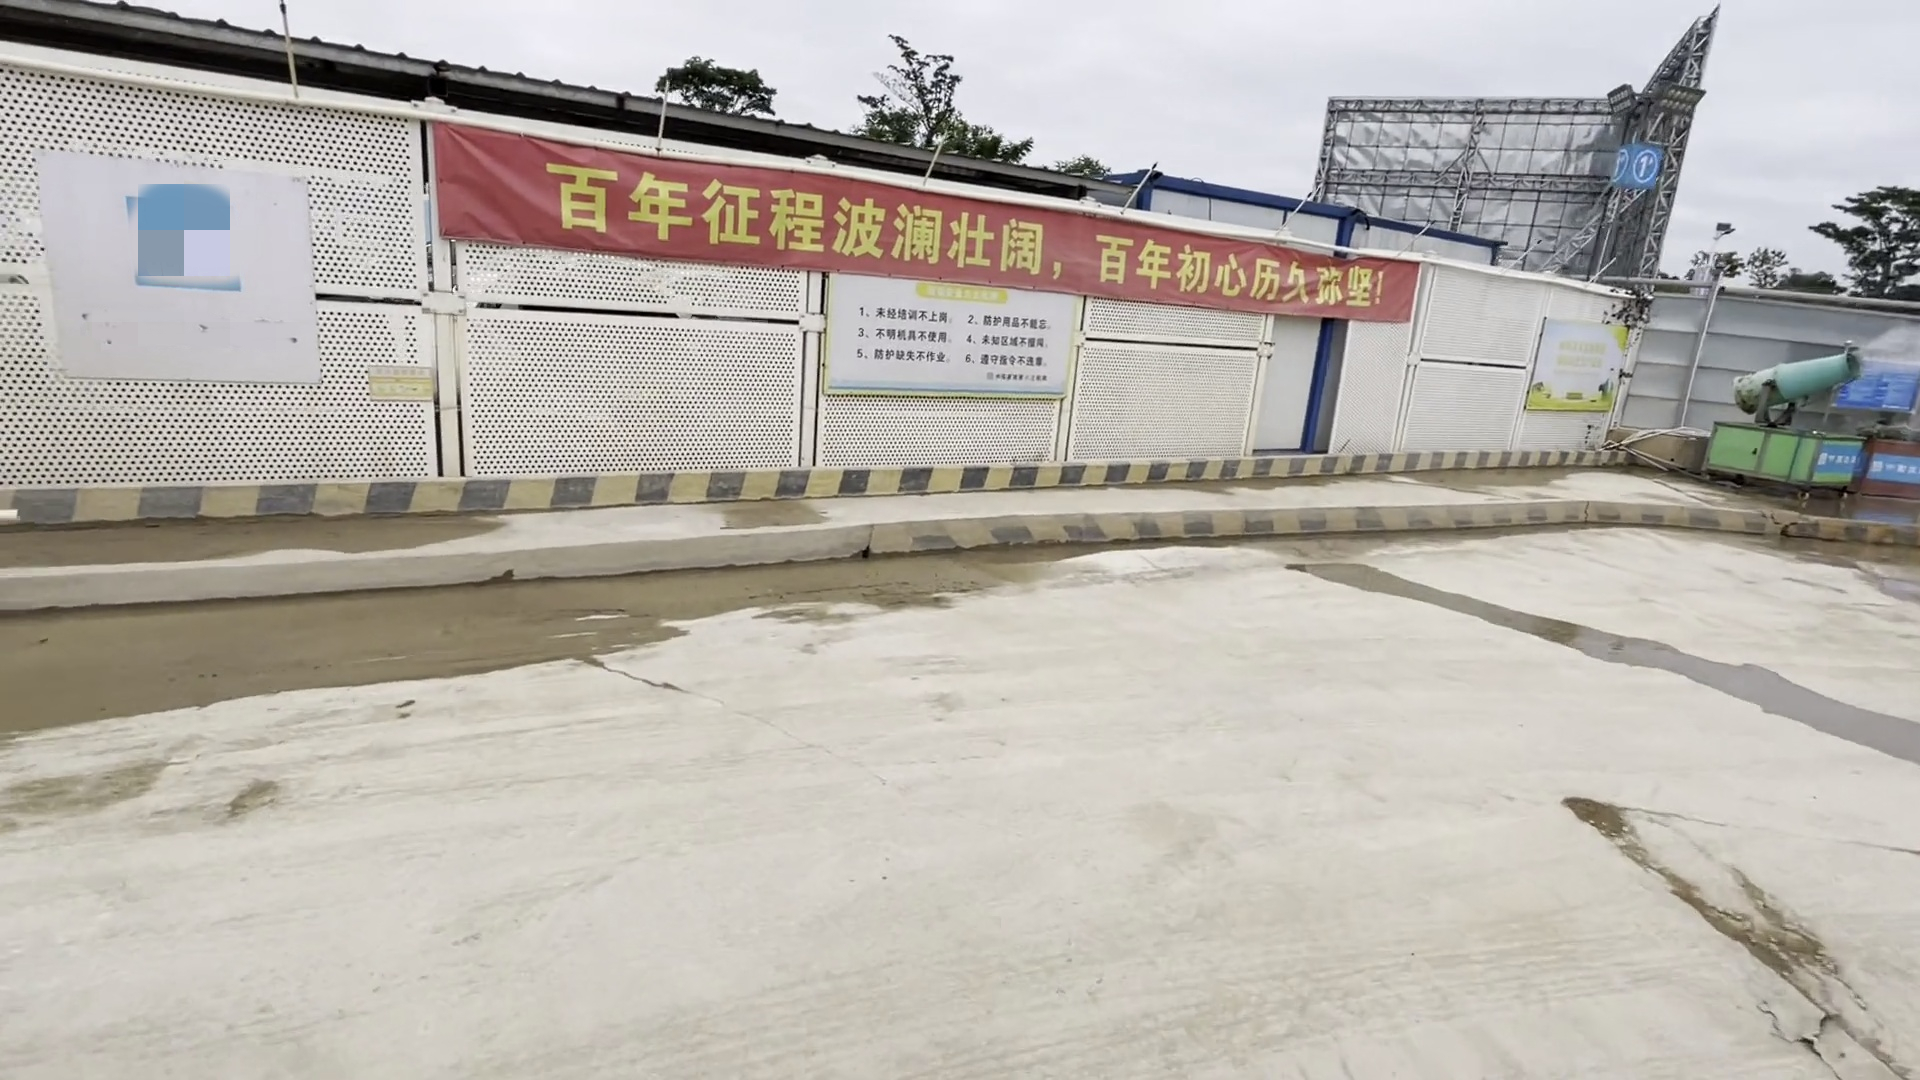slogan: (440, 117, 1396, 313), (814, 265, 1069, 405)
